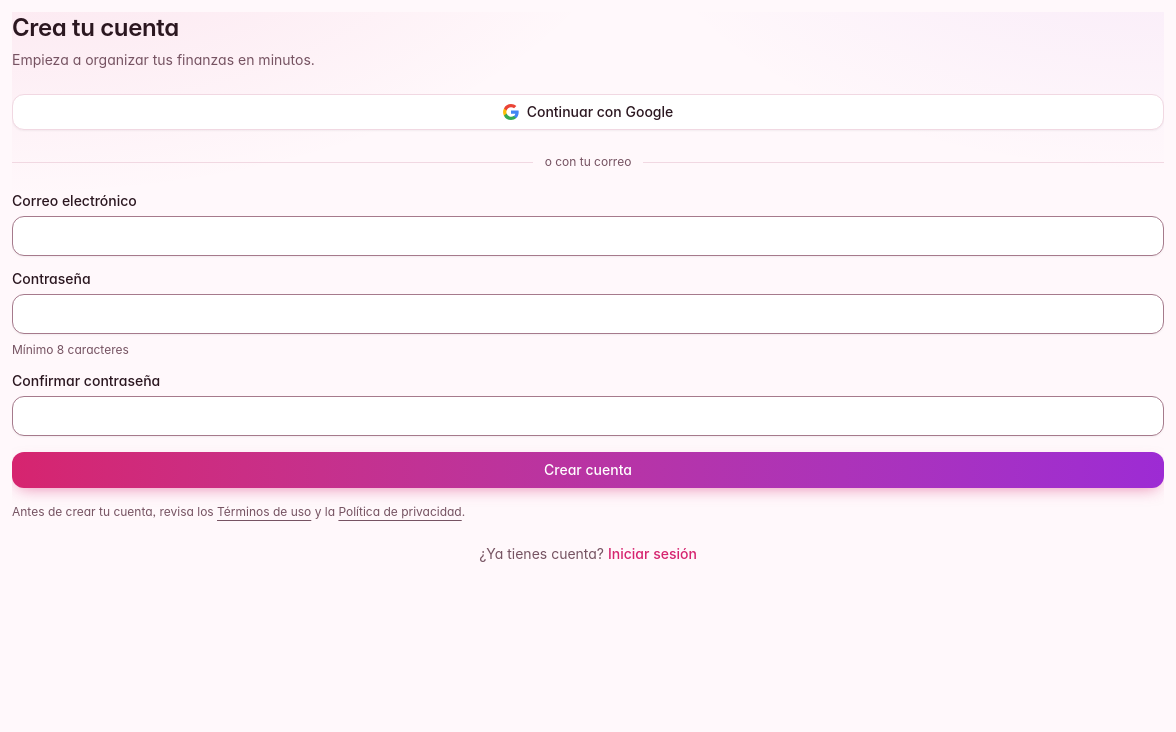
Scenario: RegisterForm › valida que las contraseñas coincidan
The width and height of the screenshot is (1176, 732).
Type "nuevo@example.com" into the field labelled "Correo electrónico" at coordinates (588, 236), box top-left (12, 216), bottom-right (1164, 256)
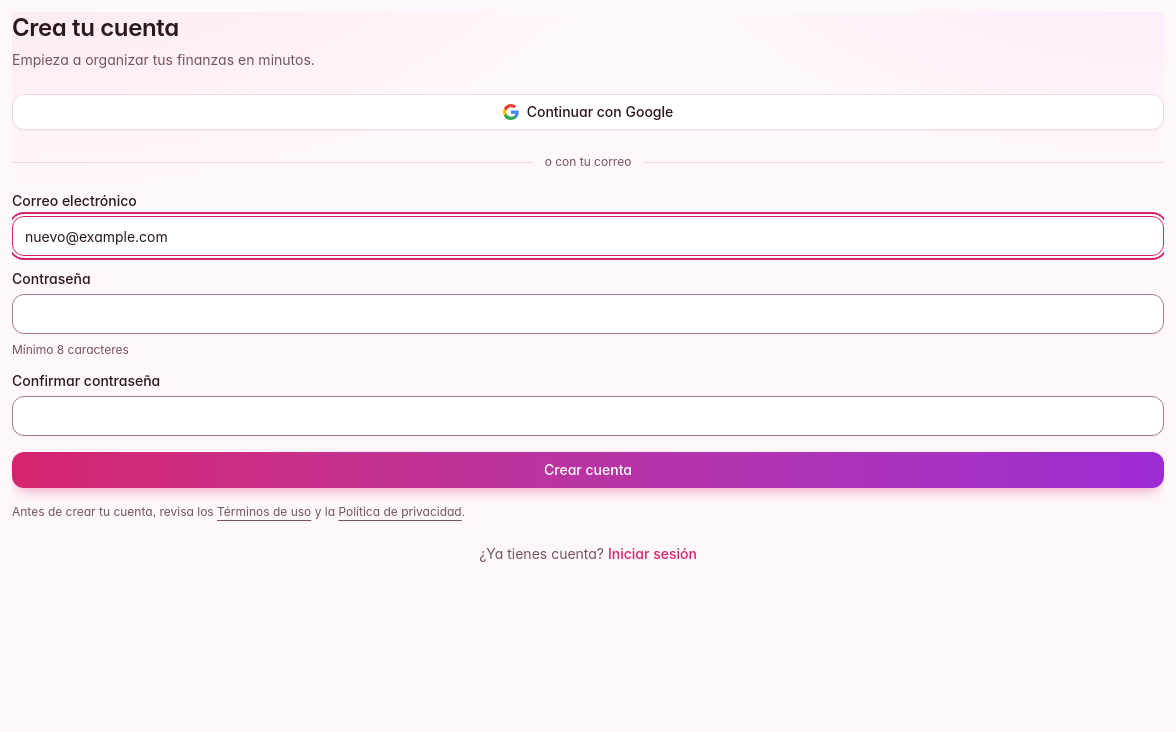
Type "password123" into the password field labelled "Contraseña" at coordinates (588, 314), box top-left (12, 294), bottom-right (1164, 334)
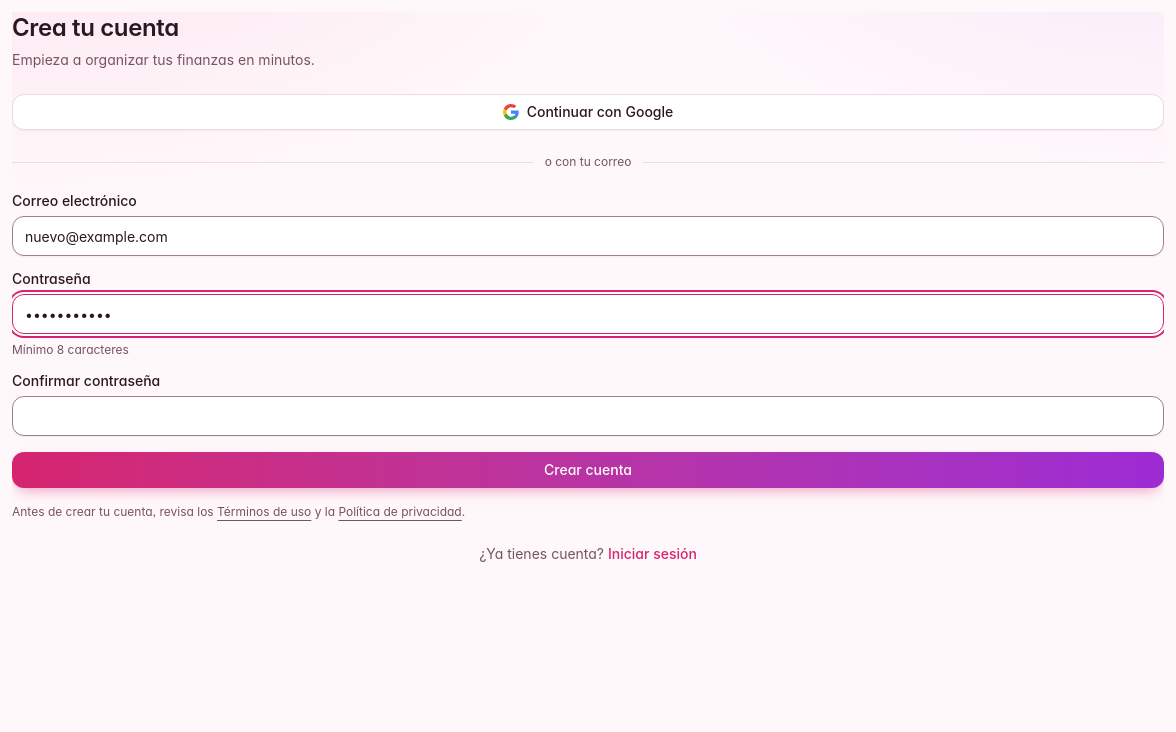
Type "otra-password" into the password field labelled "Confirmar contraseña" at coordinates (588, 416), box top-left (12, 396), bottom-right (1164, 436)
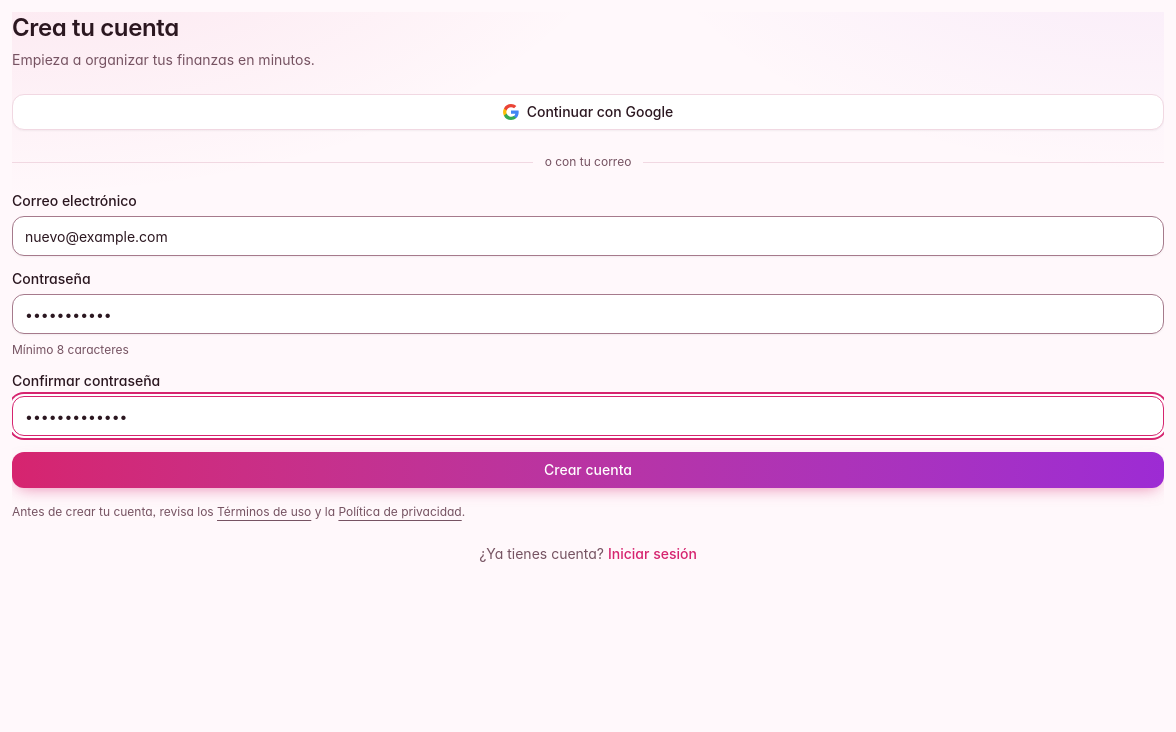
Click the button "Crear cuenta" at coordinates (588, 470), box top-left (12, 452), bottom-right (1164, 488)
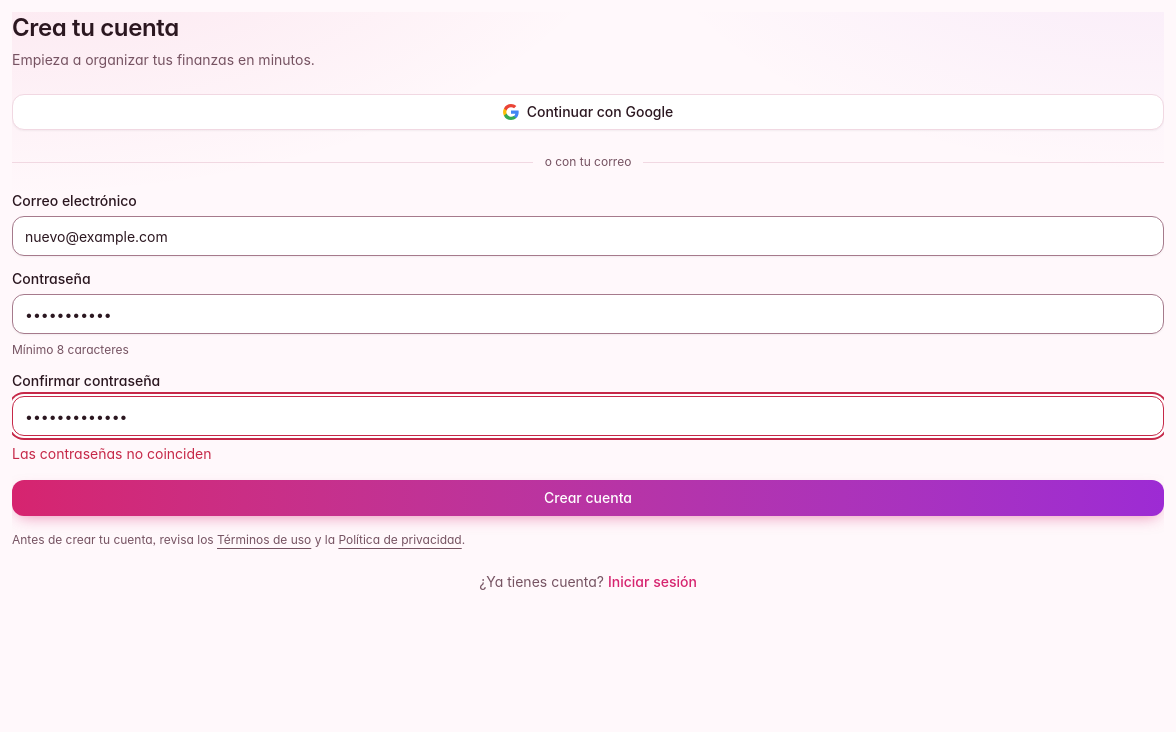
Expected: the text "Las contraseñas no coinciden" is shown, top-left (12, 445), bottom-right (212, 462)
